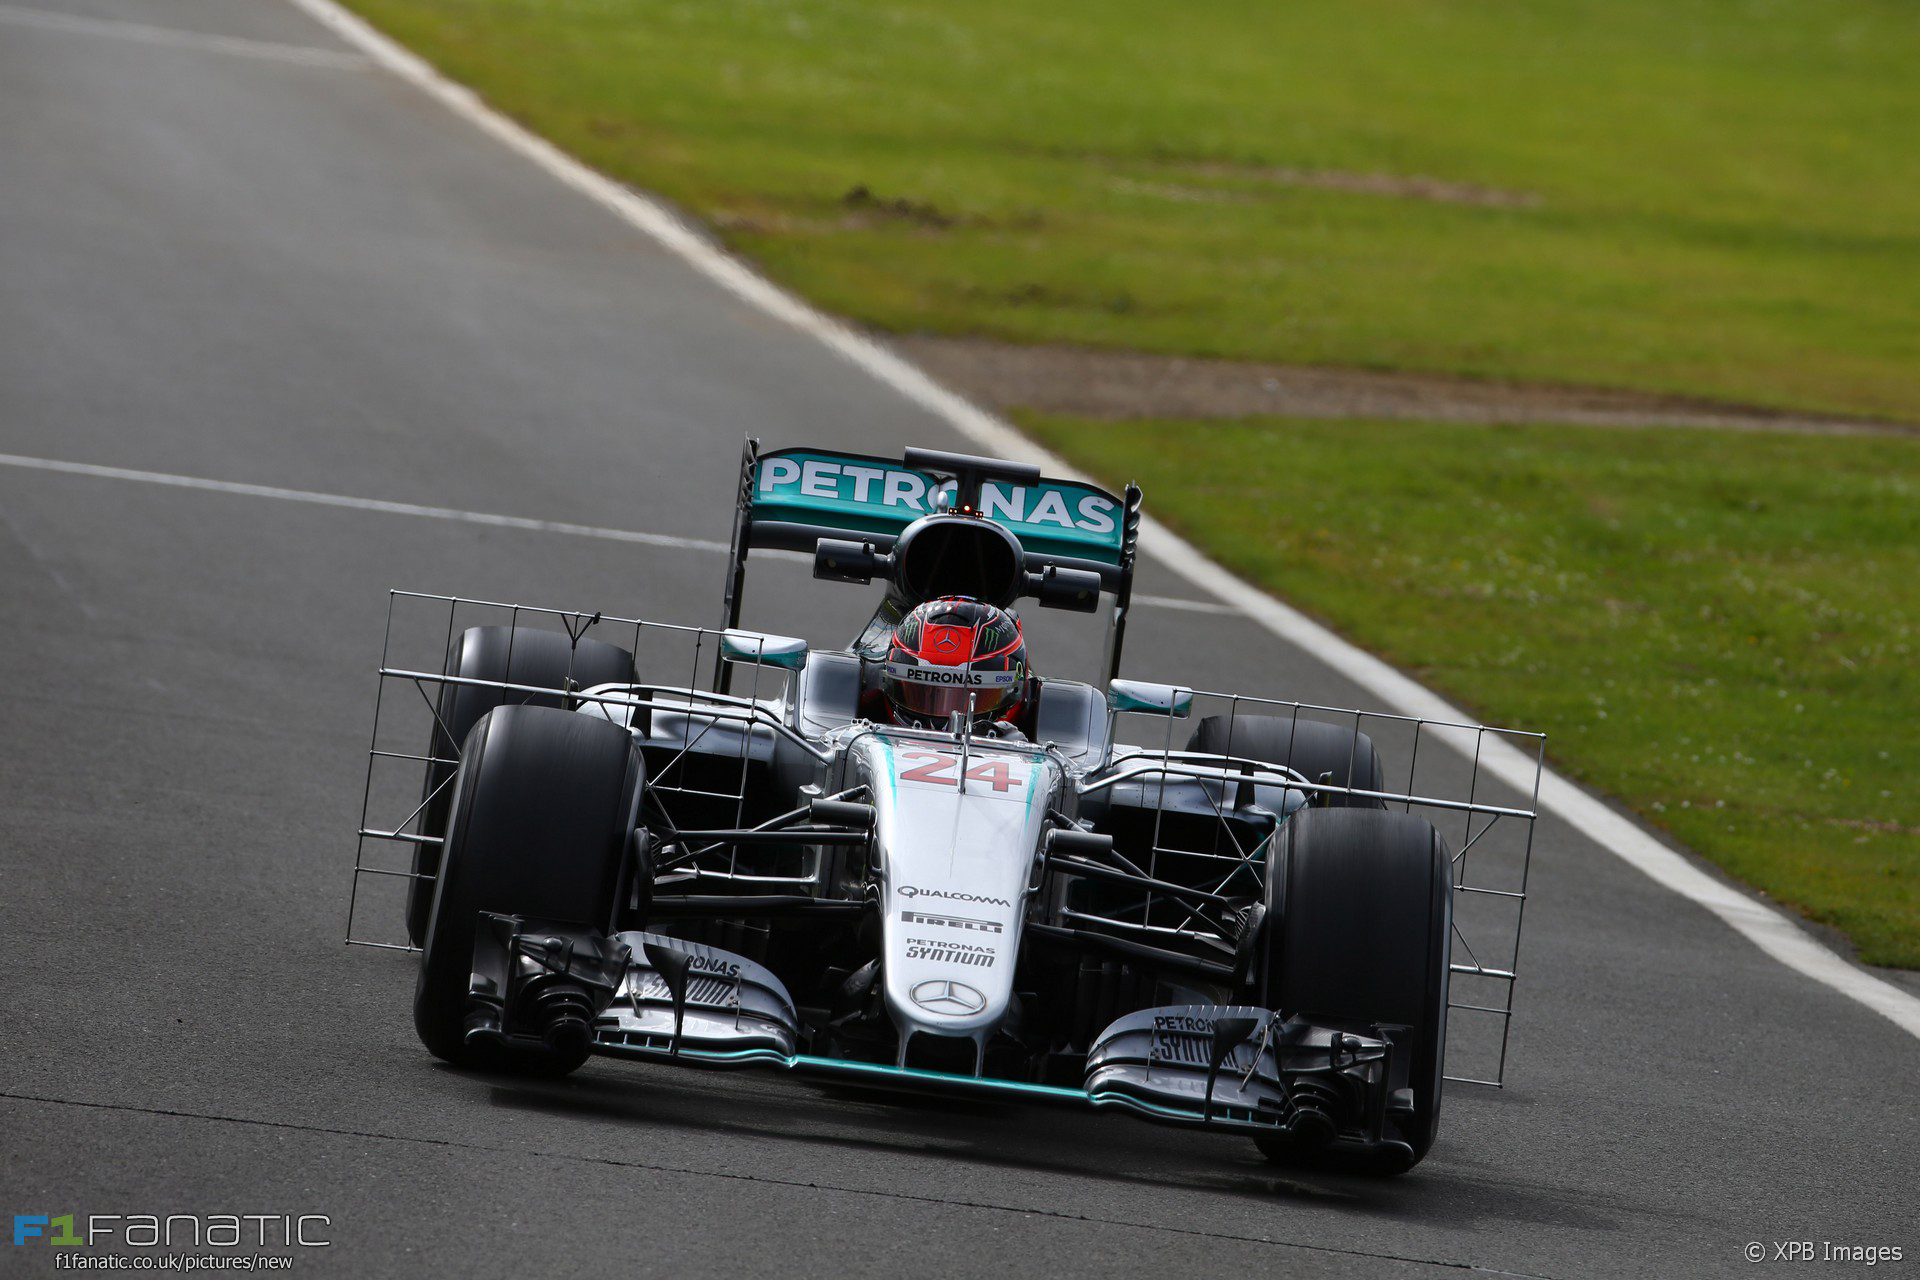F1 Car: (390, 420, 1489, 1203)
